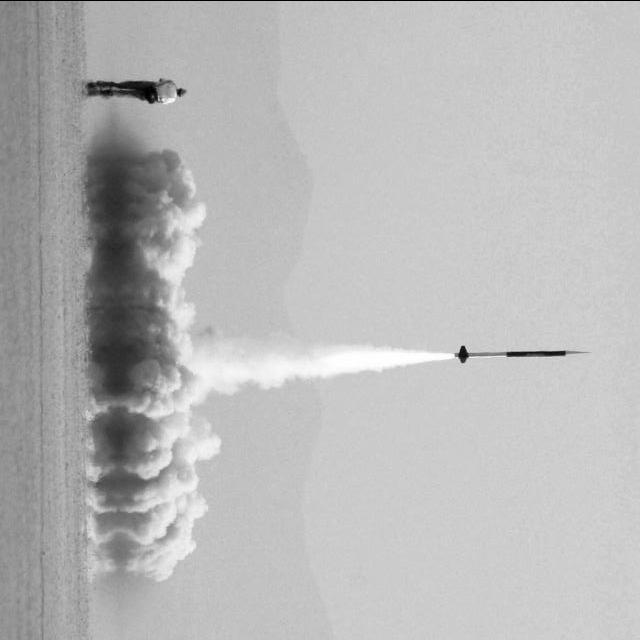missile: (454, 342, 591, 364)
